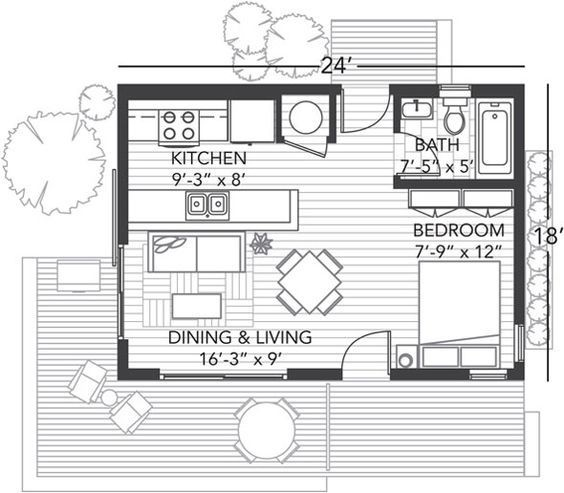door: (342, 331, 394, 371), (344, 92, 390, 133)
room: (123, 231, 344, 366), (129, 96, 326, 228), (395, 193, 519, 367), (396, 96, 518, 181)
wall: (119, 80, 342, 95), (516, 86, 528, 324), (115, 83, 129, 250), (395, 180, 516, 192), (287, 361, 347, 381), (393, 370, 468, 381), (115, 363, 159, 380), (392, 83, 439, 95), (114, 338, 128, 376), (328, 93, 338, 145), (471, 86, 523, 96), (271, 97, 283, 140), (511, 362, 521, 381)
window: (161, 369, 282, 380), (114, 255, 123, 334), (513, 329, 525, 364), (474, 370, 508, 382)
